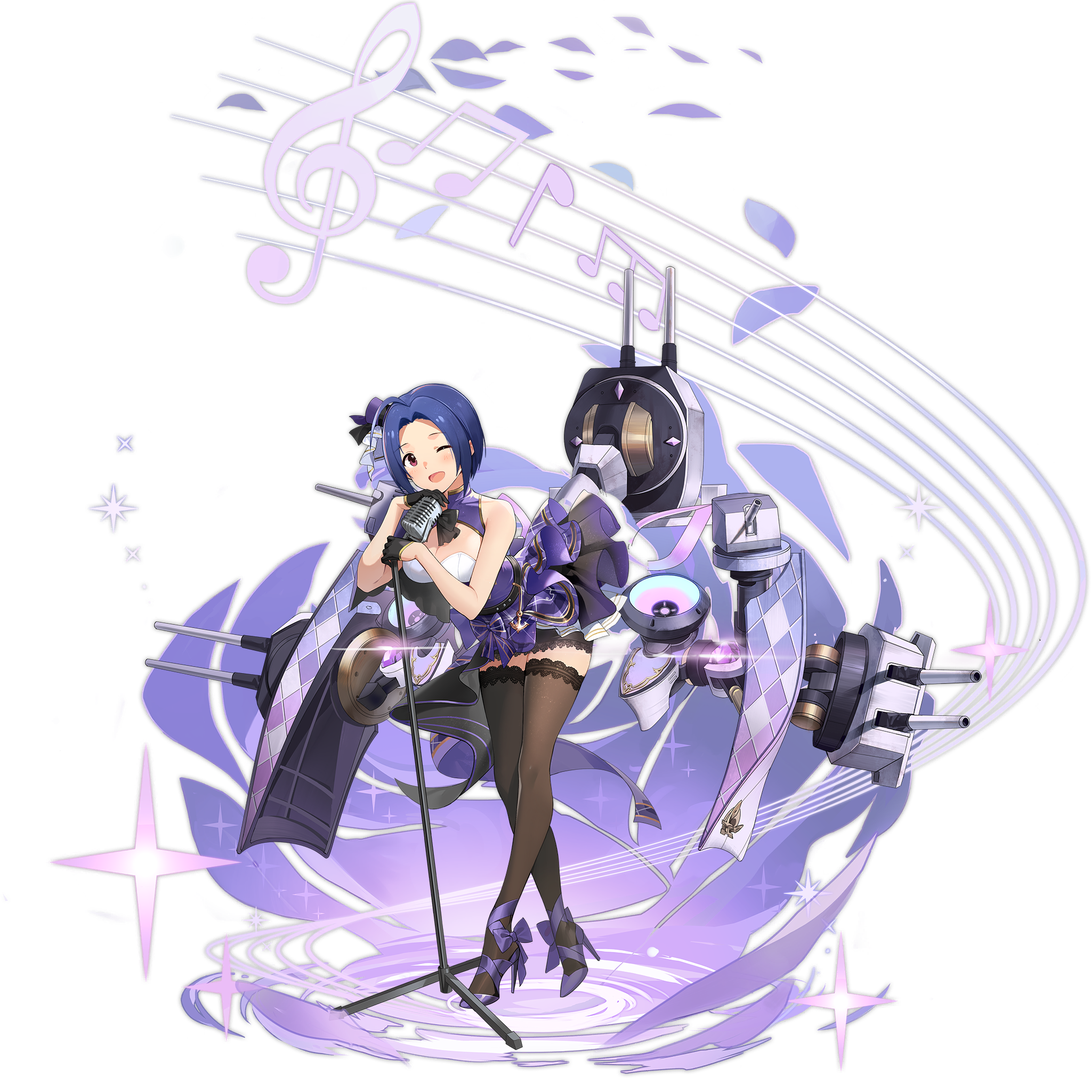person: (132, 356, 683, 1072)
